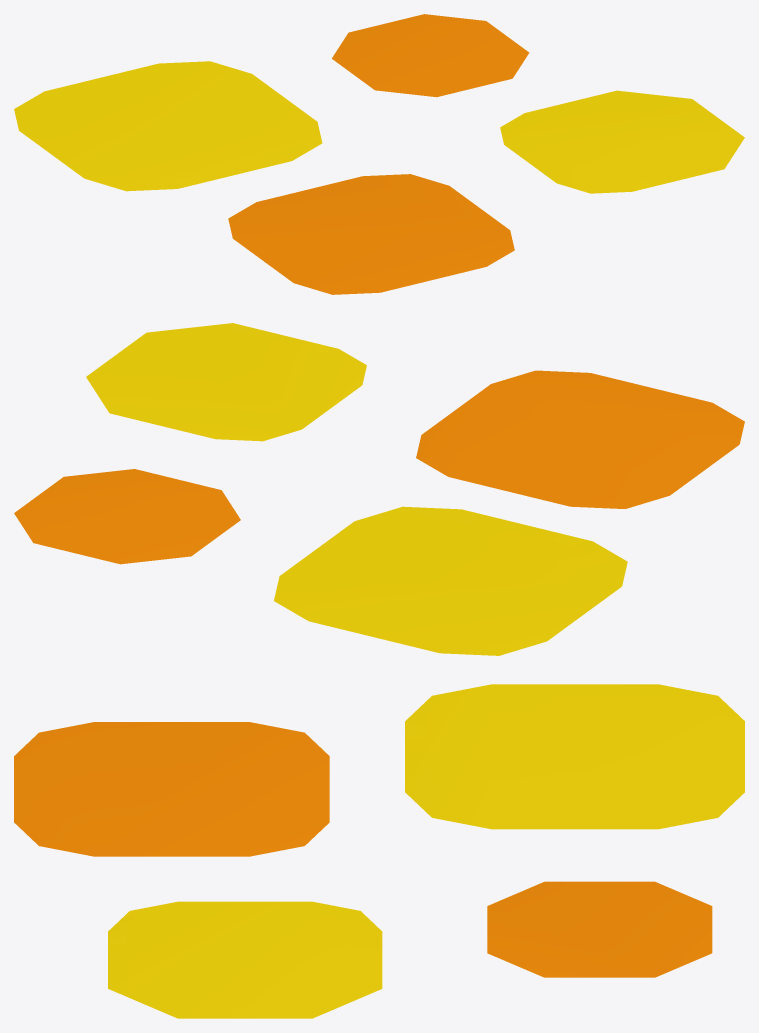
File: PathNewSmallLow.fbx
3 views of the same model, one above another, from view 1: azimuth 30°, elevation 25°; view 2: azimuth 150°, elevation 25°; view 3: azimuth 270°, elevation 25° (orthographic). The views are drawn at different scales.
Visible parts, largest first — view 1: Path; view 2: Path; view 3: Path.
Boxes of the visible parts, x1,y1,x2,y2 form: Path: [14, 14, 744, 294]; Path: [14, 323, 744, 655]; Path: [14, 684, 744, 1018].
Bounding box in the file's own units: 2.46 × 0.0152 × 2.27.
